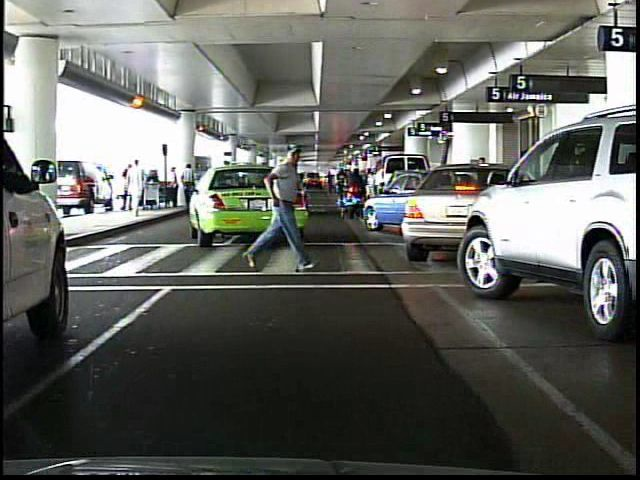person: (250, 143, 310, 276)
